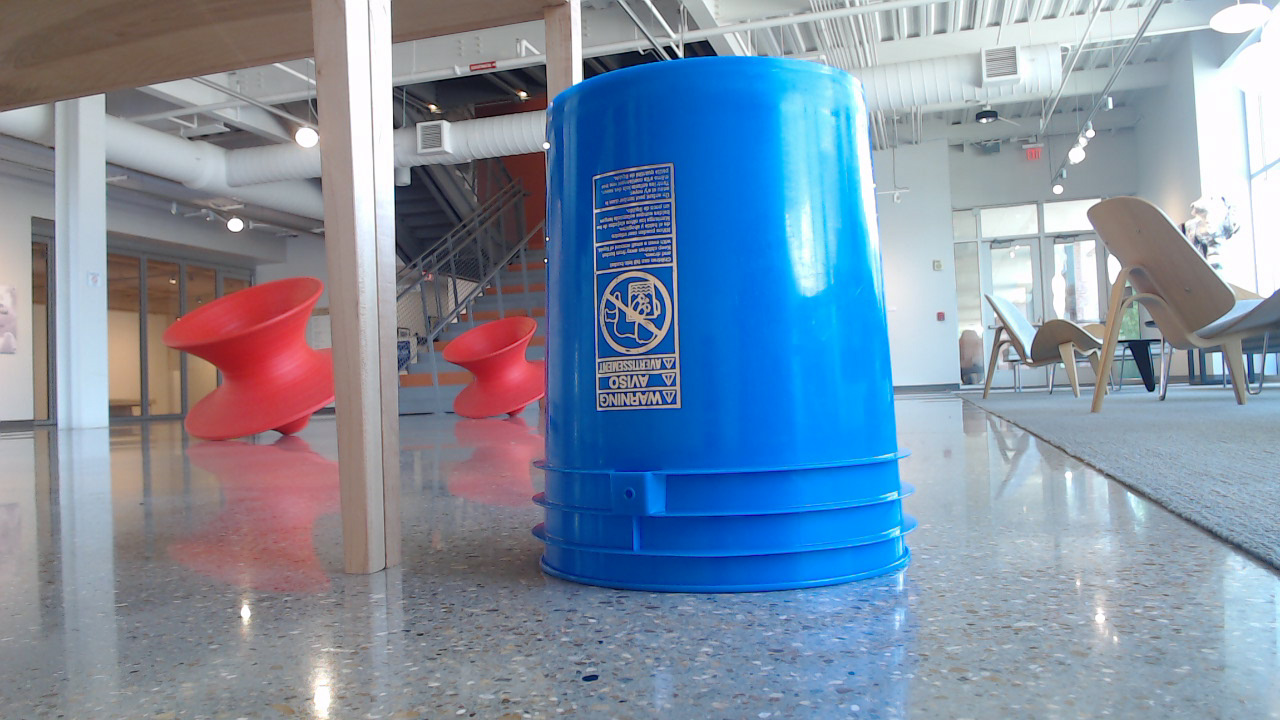blue_bucket: (534, 59, 921, 600)
